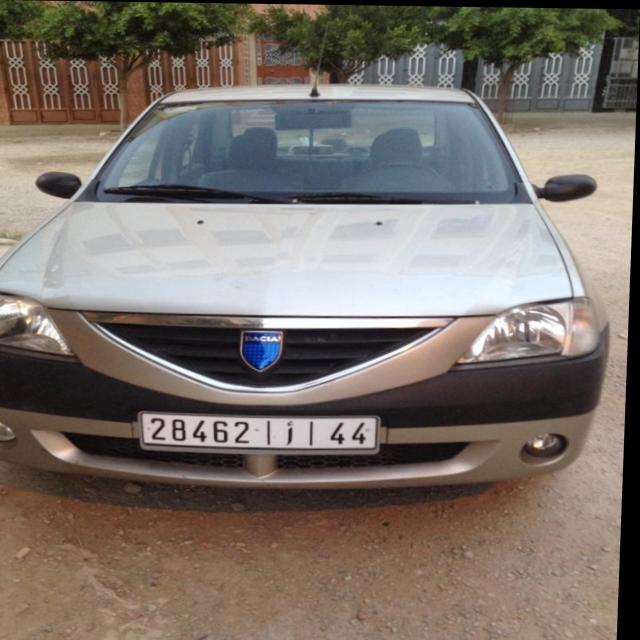License-Plate: (141, 412, 383, 453)
